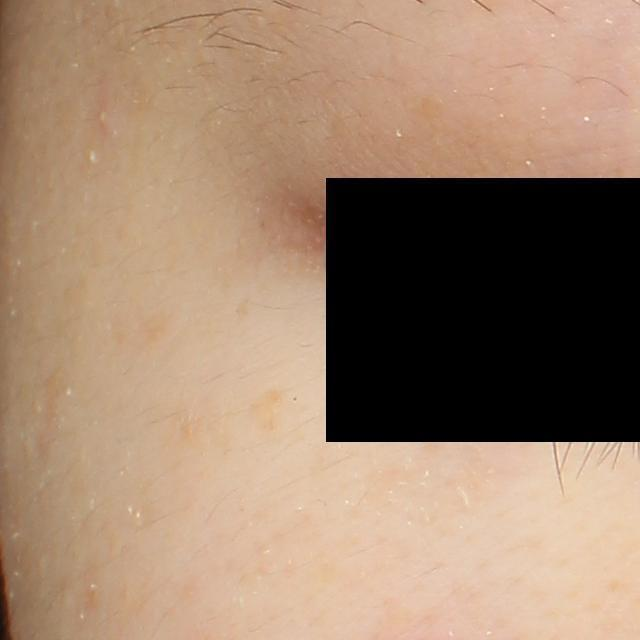melasma: (252, 387, 296, 430)
